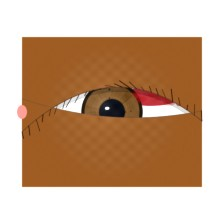hemorrhage_spot: (108, 63, 193, 130)
